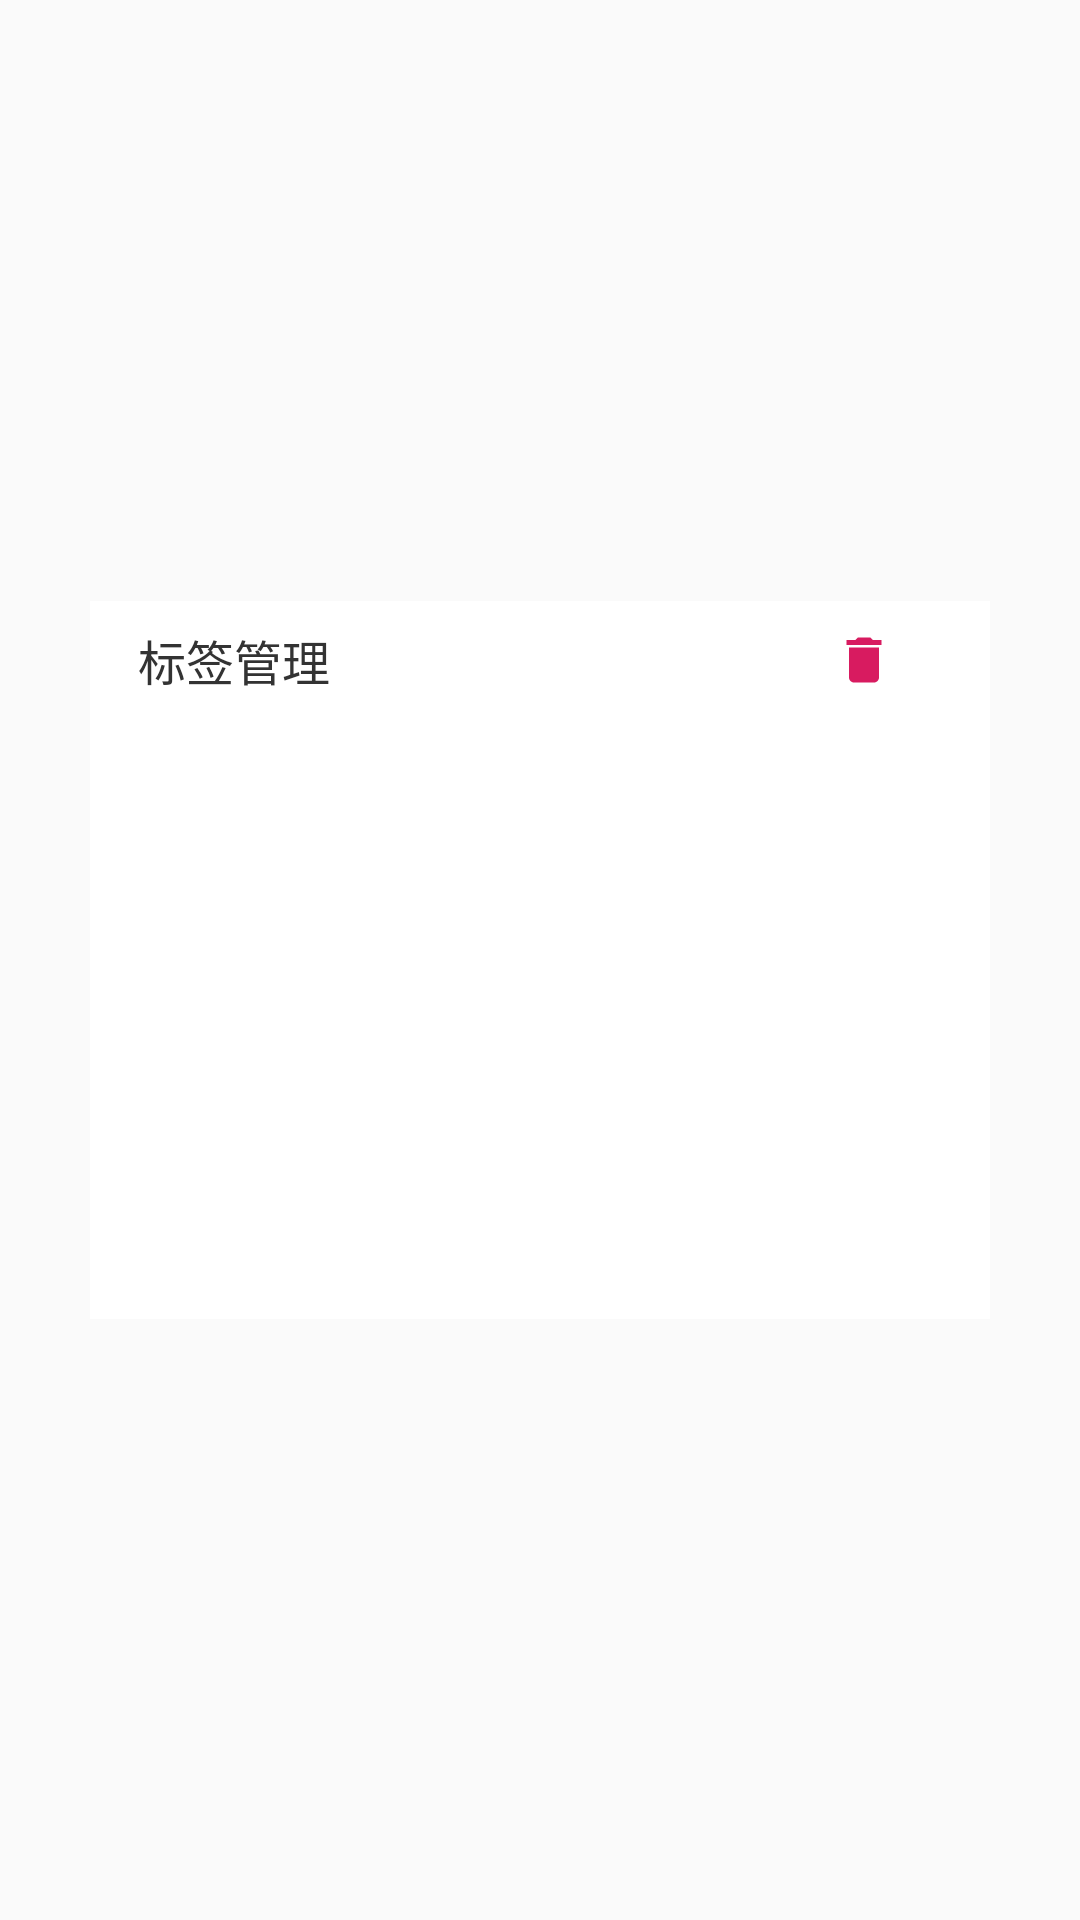

Named icons in this screenshot (1080*1920) and their bounding boxes, (x1, y1, x2, y2):
se del label: (846, 637, 882, 683)
